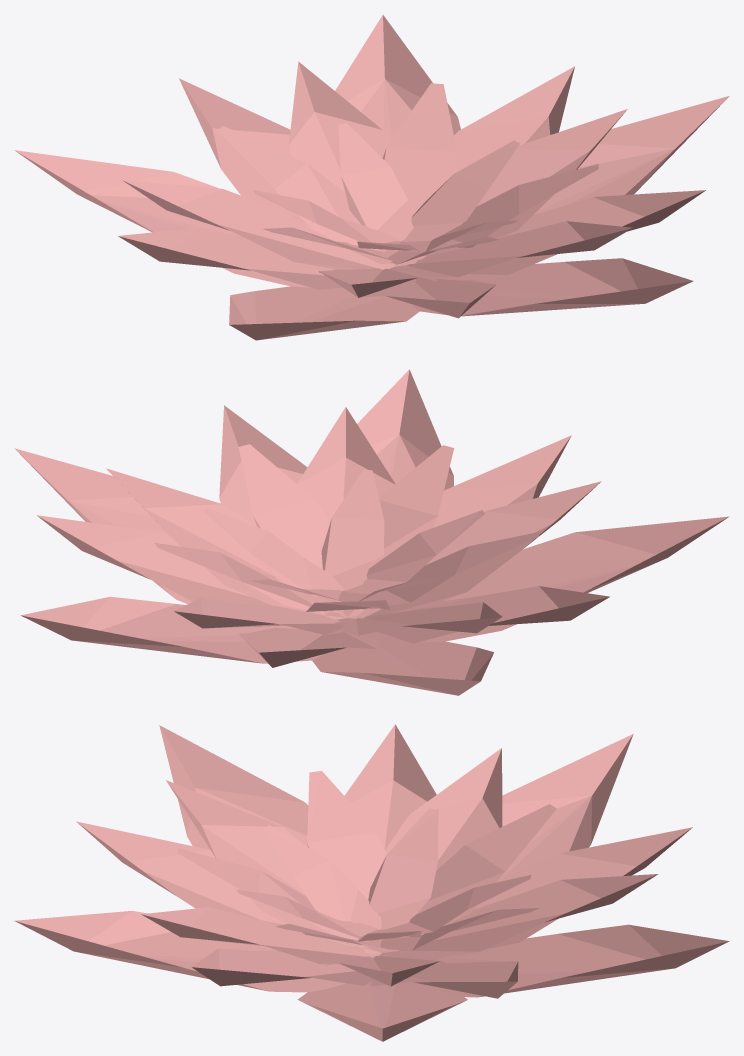
The model's file is nenuphar_flower.glb.
3 renders of one model, top to bottom at view 1: azimuth 30°, elevation 25°; view 2: azimuth 150°, elevation 25°; view 3: azimuth 270°, elevation 25°, orthographic. The views are drawn at different scales.
Parts seen in each view (by area): view 1: nenuphar_flower; view 2: nenuphar_flower; view 3: nenuphar_flower.
Boxes of the visible parts, left/top/right/bottom form: nenuphar_flower: left=14, top=15, right=729, bottom=340; nenuphar_flower: left=14, top=369, right=729, bottom=695; nenuphar_flower: left=14, top=724, right=729, bottom=1041.
Size of the model in its own units: 1.25 by 0.2325 by 1.25.
1 material, 1 textured.
